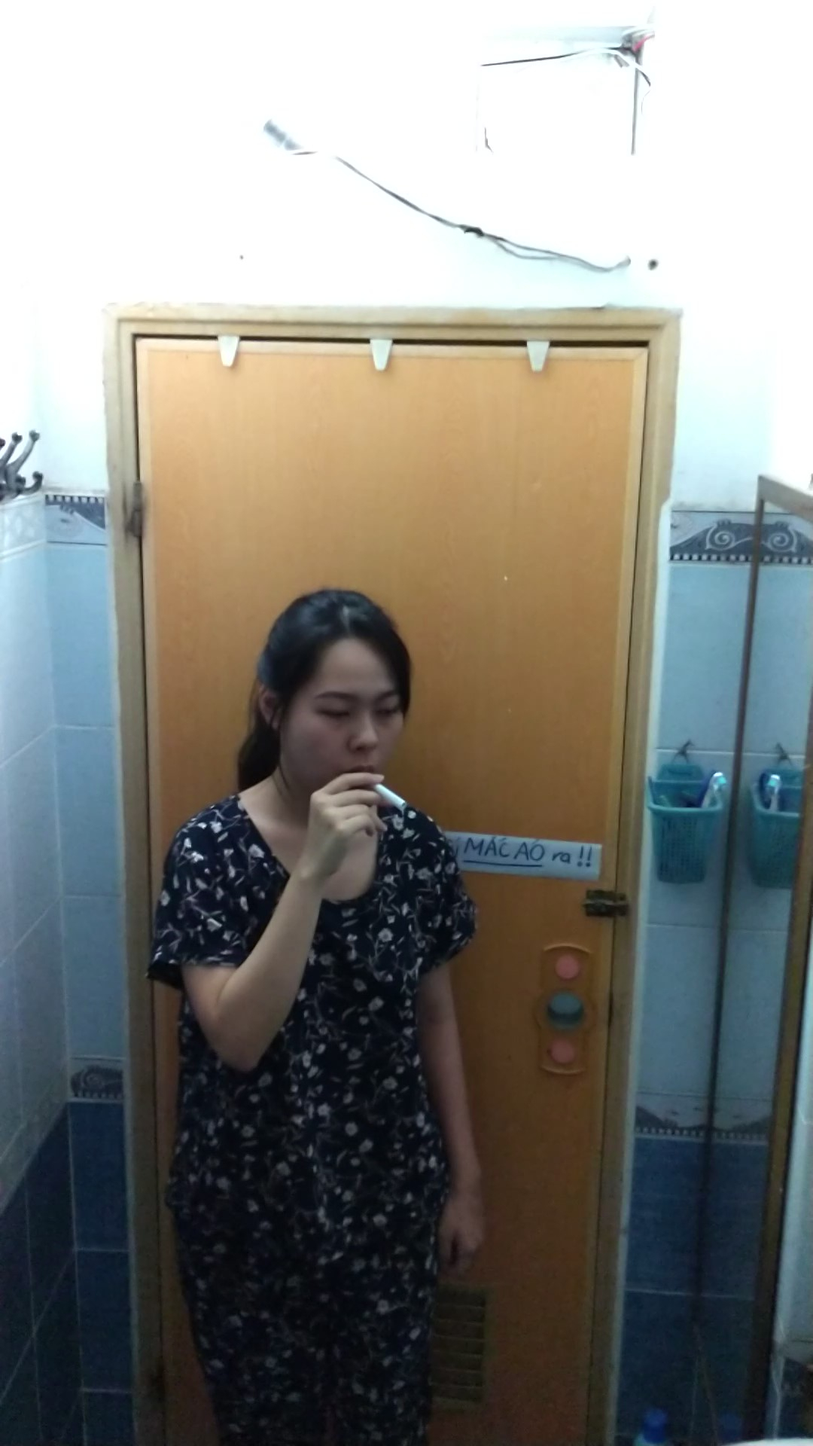cigarette: (375, 782, 412, 817)
person: (143, 587, 495, 1446)
